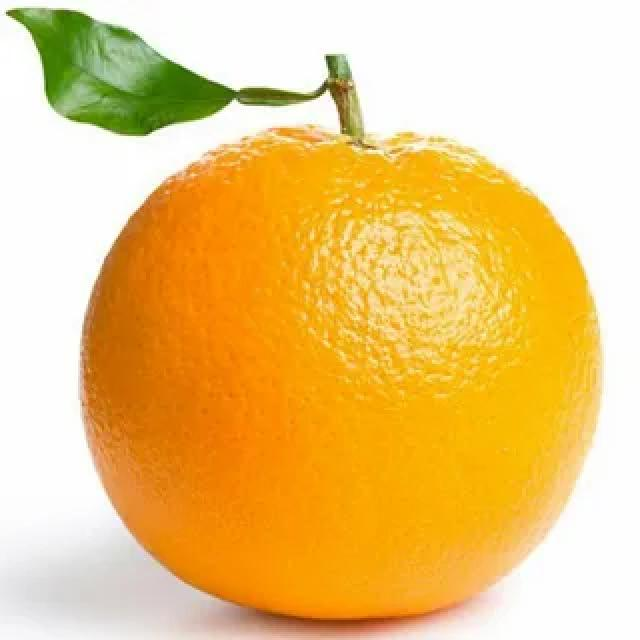orange: (65, 107, 640, 640)
